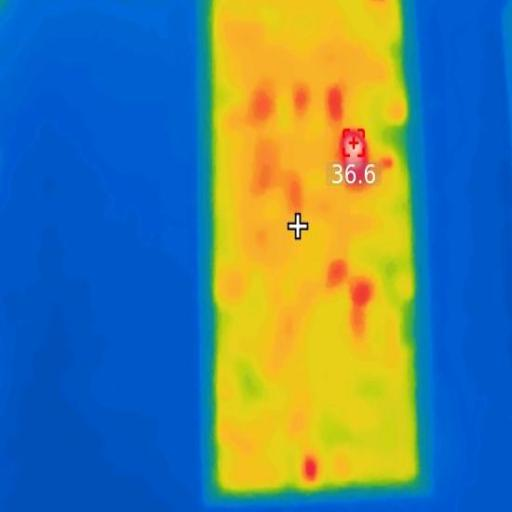hotspot: (339, 133, 368, 186), (351, 279, 368, 326), (326, 84, 346, 122), (329, 256, 349, 290), (292, 90, 312, 122)
